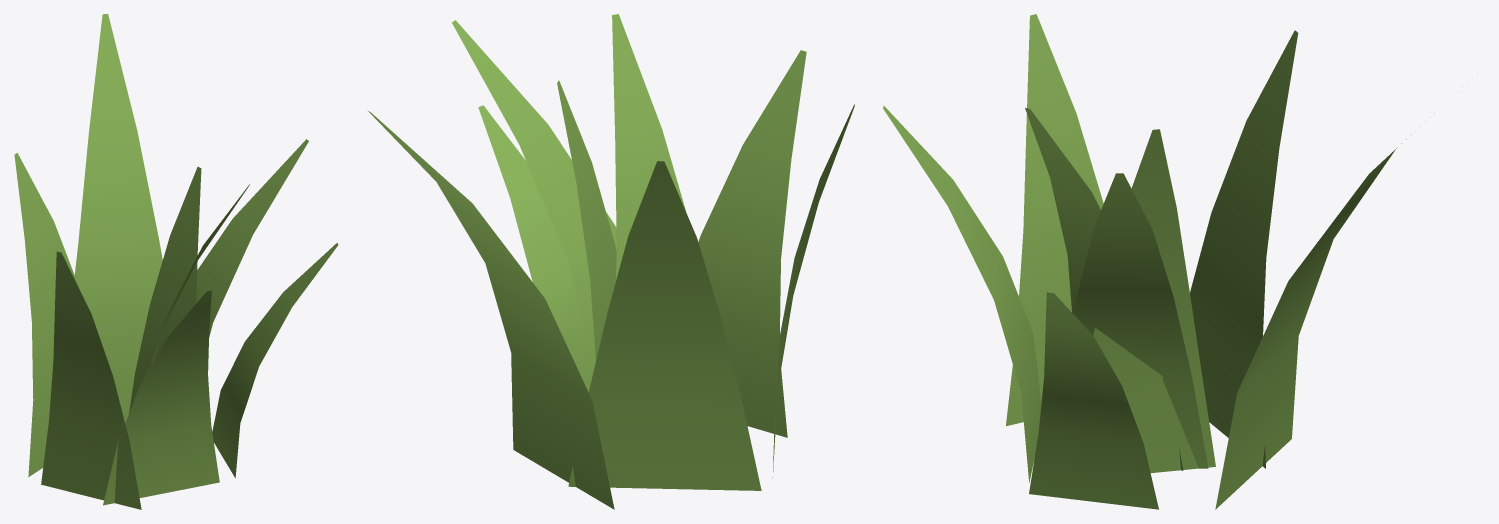
The model's file is grass_tuft_2.fbx.
3 views of the same model, side by side, from view 1: azimuth 30°, elevation 25°; view 2: azimuth 150°, elevation 25°; view 3: azimuth 270°, elevation 25° (orthographic). The views are drawn at different scales.
Visible parts, largest first — view 1: grass_tuft_2; view 2: grass_tuft_2; view 3: grass_tuft_2.
Part boxes in pixels (x1,y1,x2,y2): grass_tuft_2: (14, 14, 338, 509); grass_tuft_2: (367, 14, 854, 509); grass_tuft_2: (883, 14, 1425, 509).
Bounding box in the file's own units: 0.0593 × 0.0657 × 0.0794.
